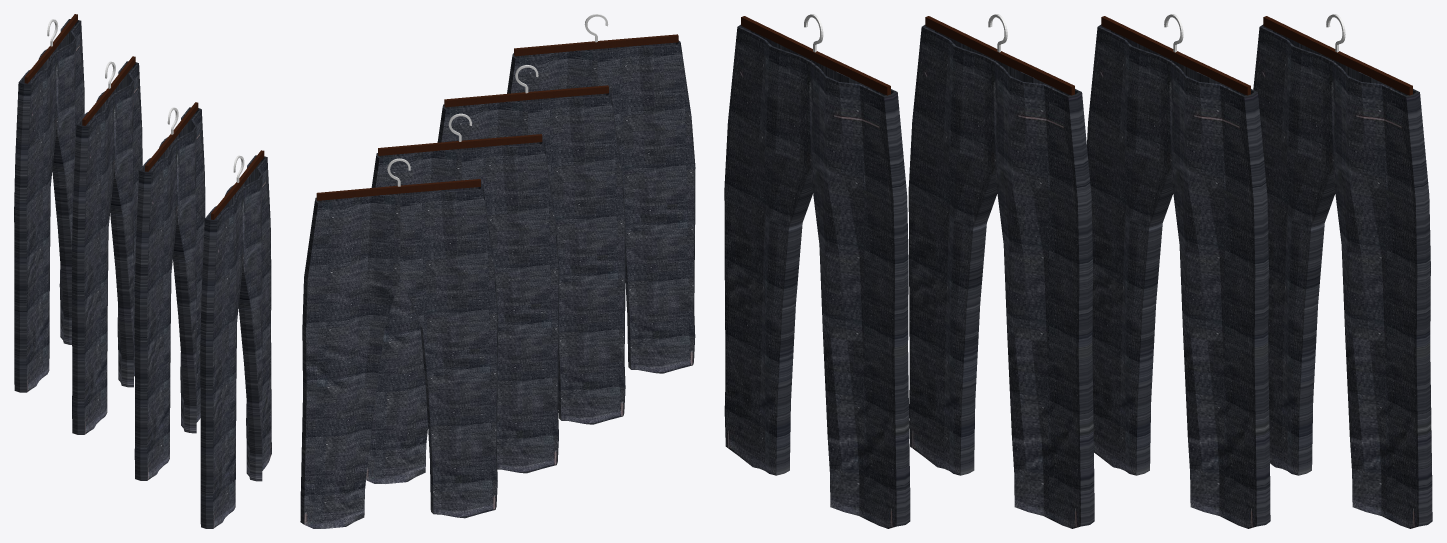
Rendered from koji1.glb.
3 views of the same model, side by side, from view 1: azimuth 30°, elevation 25°; view 2: azimuth 150°, elevation 25°; view 3: azimuth 270°, elevation 25° (orthographic). The views are drawn at different scales.
Parts seen in each view (by area): view 1: Plane.301; view 2: Plane.301; view 3: Plane.301.
Part boxes in pixels (<box>): Plane.301: <box>14,14,271,528</box>; Plane.301: <box>300,14,695,528</box>; Plane.301: <box>724,14,1432,528</box>.
Bounding box in the file's own units: 0.185 × 0.4706 × 0.6323.
3 materials, 3 textured.
